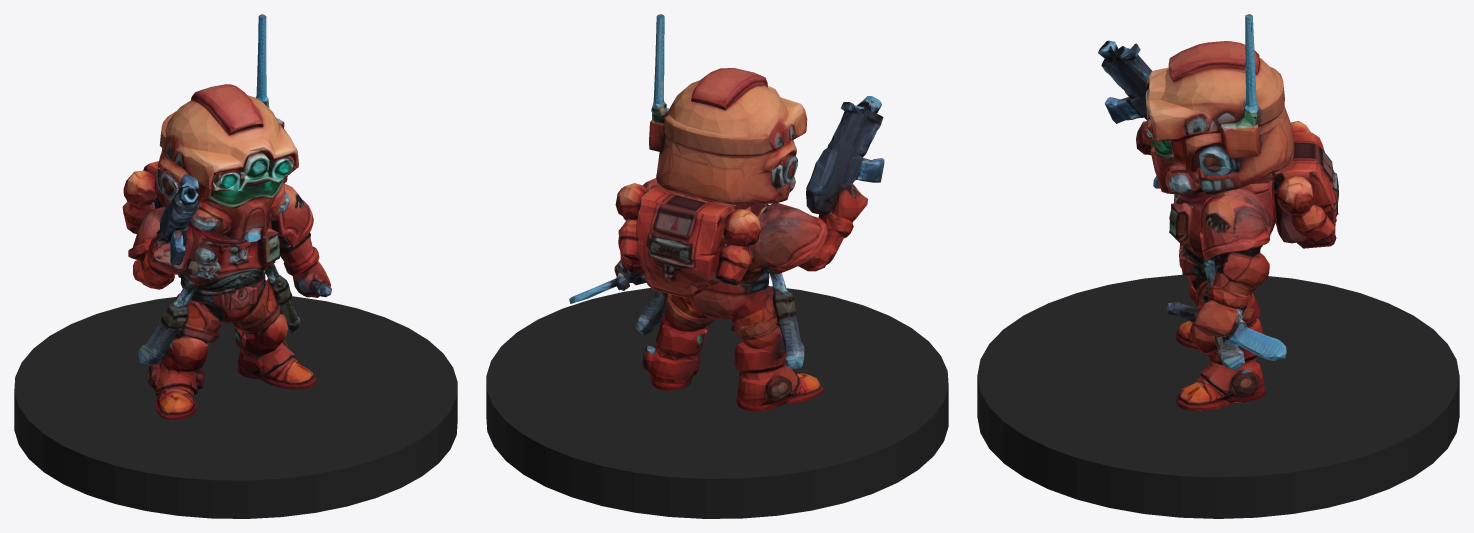
File: ba-incursor-sergeant.glb
The picture shows the model from 3 angles, left to right: view 1: azimuth 30°, elevation 25°; view 2: azimuth 150°, elevation 25°; view 3: azimuth 270°, elevation 25°; orthographic projection. The views are drawn at different scales.
Parts seen in each view (by area): view 1: base, figure; view 2: base, figure; view 3: base, figure.
Boxes of the visible parts, box(x1,y1,x2,y2) form: base: box(14, 296, 457, 518); figure: box(122, 14, 331, 419); base: box(486, 286, 948, 518); figure: box(569, 14, 884, 411); base: box(977, 274, 1459, 518); figure: box(1098, 14, 1338, 410).
Bounding box in the file's own units: 1.26 × 1.22 × 1.26.
Materials: 2 (1 with a texture image).
